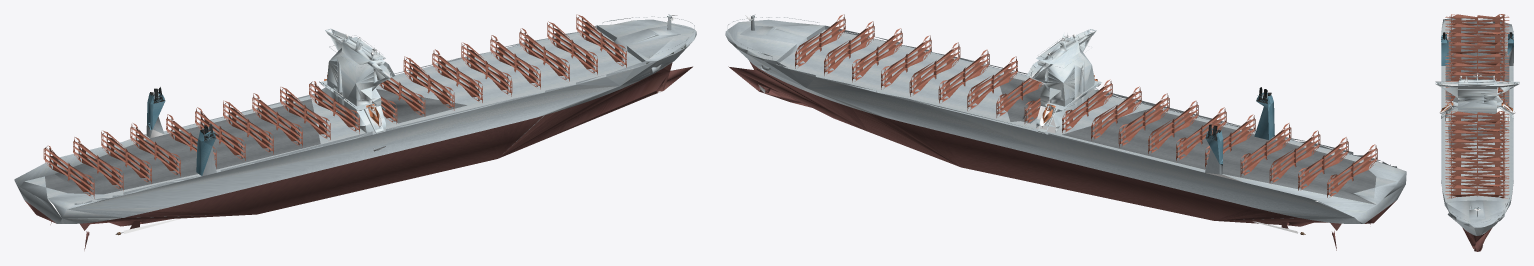
File: ShipReduced.obj
3 renders of one model, left to right at view 1: azimuth 30°, elevation 25°; view 2: azimuth 150°, elevation 25°; view 3: azimuth 270°, elevation 25°, orthographic. The views are drawn at different scales.
Parts seen in each view (by area): view 1: Mesh1_Group2_Group1_Componente_14_1_Model; view 2: Mesh1_Group2_Group1_Componente_14_1_Model; view 3: Mesh1_Group2_Group1_Componente_14_1_Model.
Part boxes in pixels (box(x1,y1,x2,y2)): Mesh1_Group2_Group1_Componente_14_1_Model: box(14, 14, 696, 250); Mesh1_Group2_Group1_Componente_14_1_Model: box(725, 14, 1406, 250); Mesh1_Group2_Group1_Componente_14_1_Model: box(1435, 14, 1519, 251).
Bounding box in the file's own units: 336 × 63.31 × 56.62.
